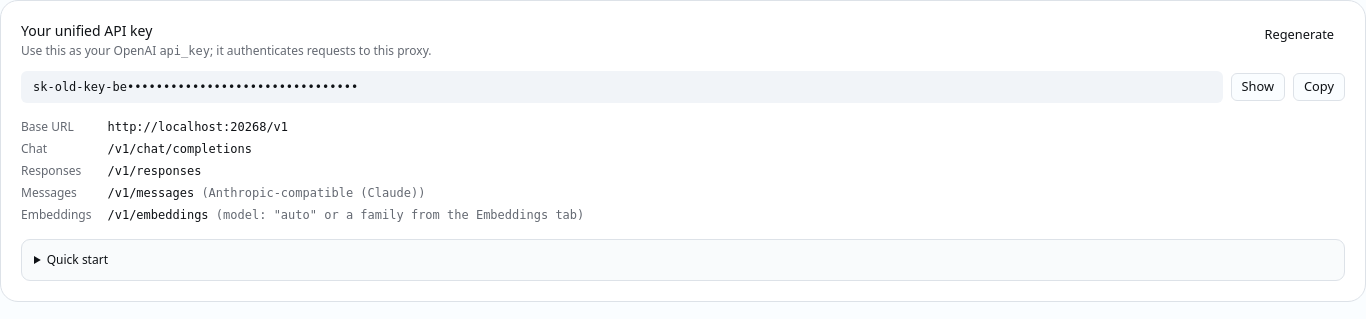
Test: regenerates on the confirming click and reveals the fresh key
This screenshot has width=1366, height=319.
Click the button "Regenerate": (1299, 35) [1254, 21, 1345, 49]
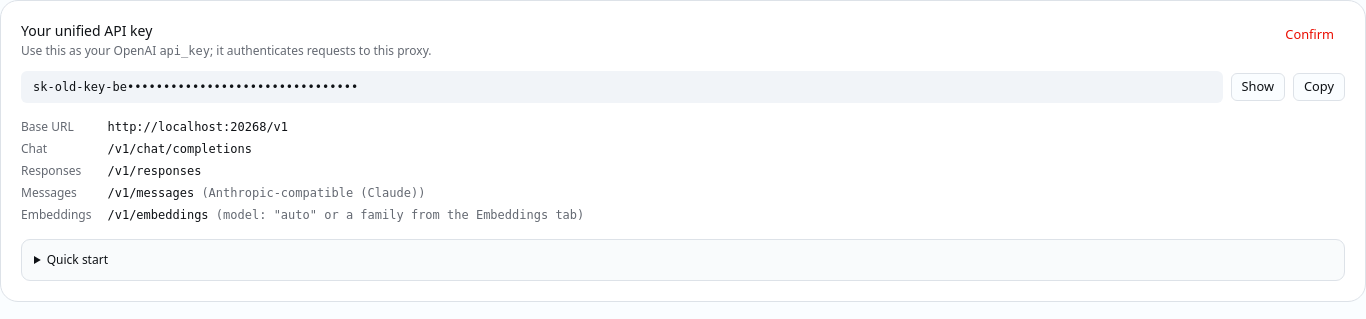
Click the button "Confirm": (1310, 35) [1274, 21, 1345, 49]
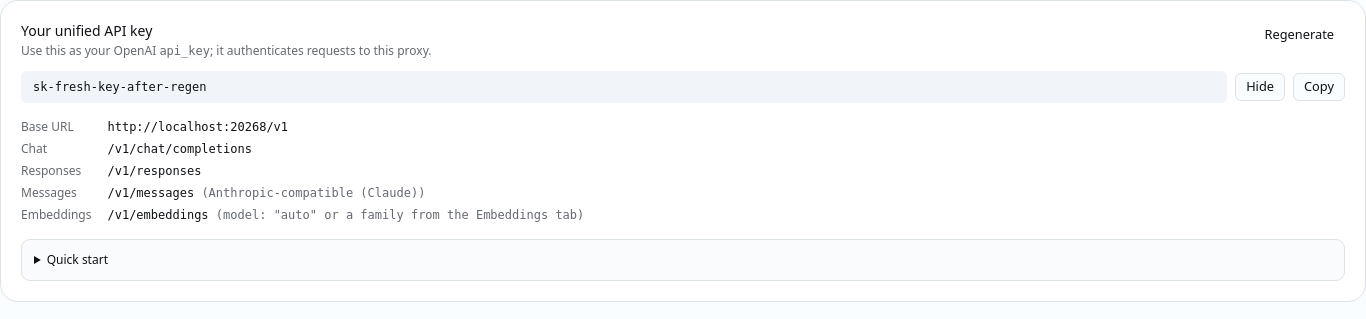
Expected: the text with class "select-all" reads "sk-fresh-key-after-regen", [33, 80, 206, 94]
